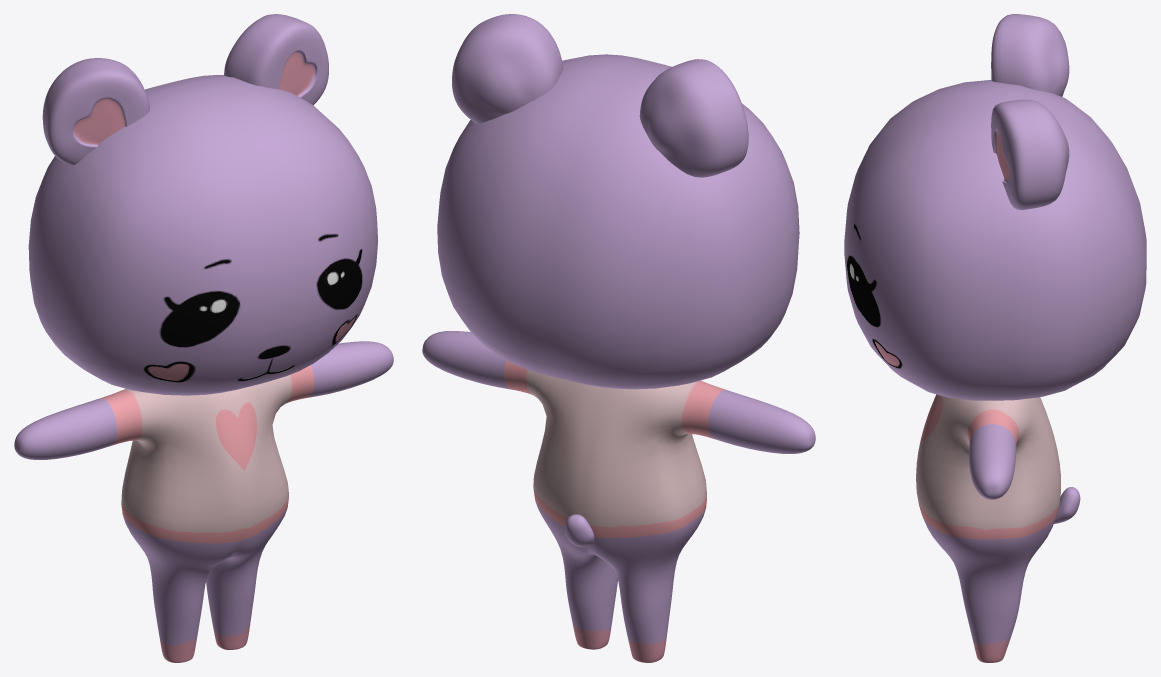
File: Osito Cliente2.fbx
3 views of the same model, side by side, from view 1: azimuth 30°, elevation 25°; view 2: azimuth 150°, elevation 25°; view 3: azimuth 270°, elevation 25° (orthographic). The views are drawn at different scales.
Visible parts, largest first — view 1: Head_bear, Body_bear, Ears_bear; view 2: Head_bear, Body_bear, Ears_bear, Tail_bear; view 3: Head_bear, Body_bear, Ears_bear, Tail_bear.
Part boxes in pixels (x1=…): Head_bear: x1=28, y1=75, x2=377, y2=395; Body_bear: x1=14, y1=341, x2=393, y2=662; Ears_bear: x1=42, y1=14, x2=328, y2=165; Head_bear: x1=437, y1=54, x2=799, y2=389; Body_bear: x1=422, y1=331, x2=815, y2=662; Ears_bear: x1=452, y1=14, x2=748, y2=177; Tail_bear: x1=564, y1=514, x2=594, y2=547; Head_bear: x1=844, y1=80, x2=1146, y2=400; Body_bear: x1=916, y1=394, x2=1060, y2=662; Ears_bear: x1=991, y1=14, x2=1069, y2=209; Tail_bear: x1=1054, y1=487, x2=1080, y2=523.
Size of the model in its own units: 5.26 by 8.02 by 3.77.
3 materials, 3 textured.
